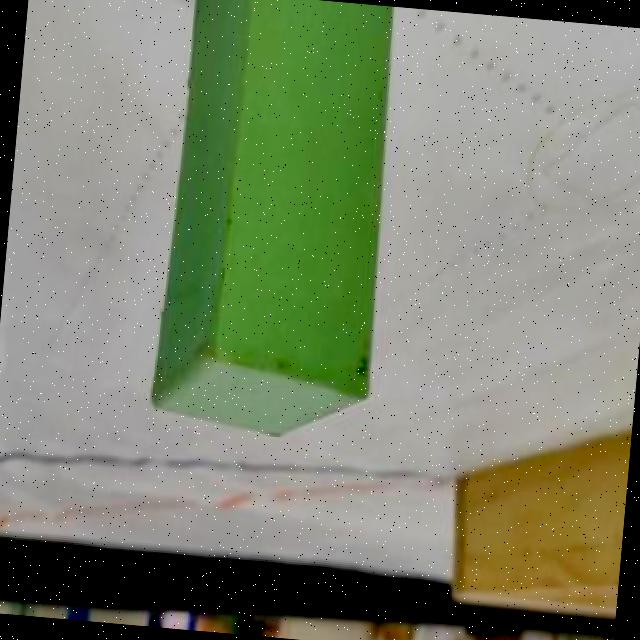greenbox: (145, 0, 409, 450)
